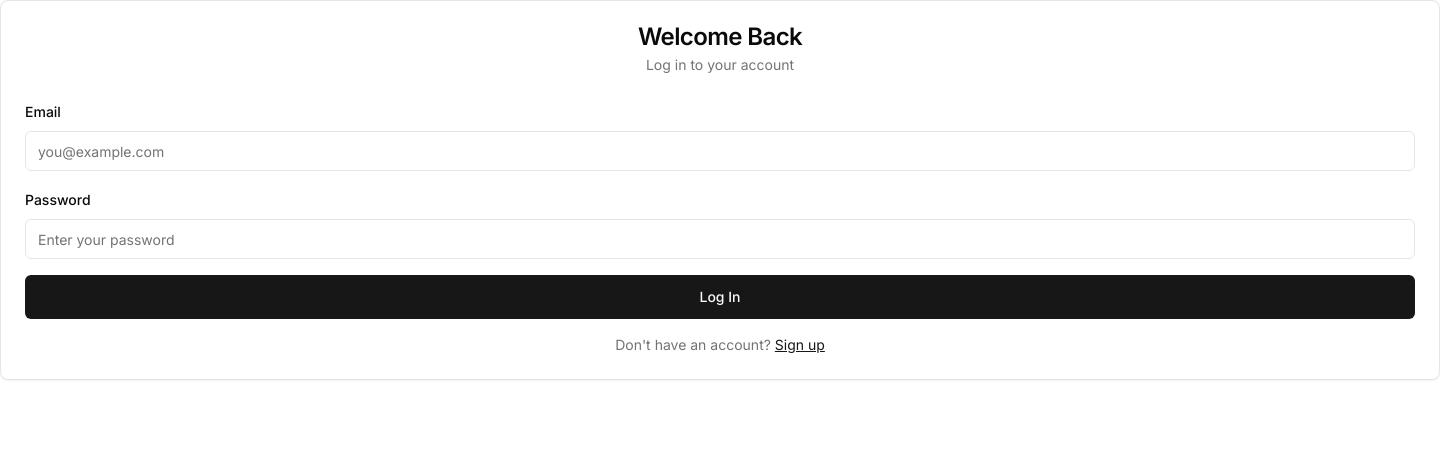
it: LoginPage › shows invalid credentials error
Type "test@example.com" into the field labelled "Email".
click(720, 151); type("test@example.com")  # box [25,131,1415,171]
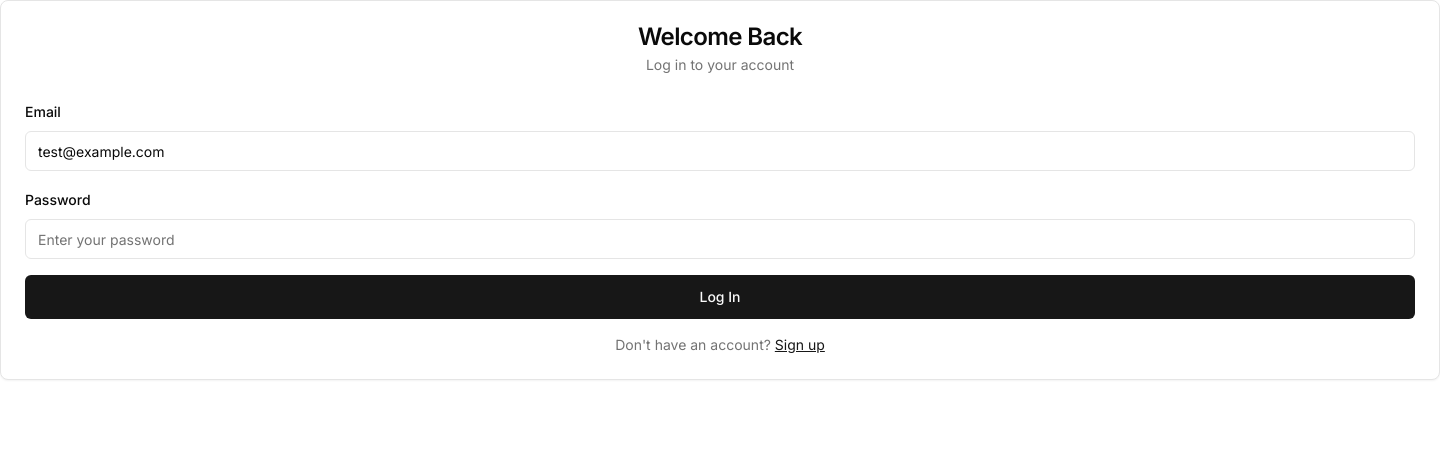
Type "wrongpassword" into the password field labelled "Password".
click(720, 239); type("wrongpassword")  # box [25,219,1415,259]
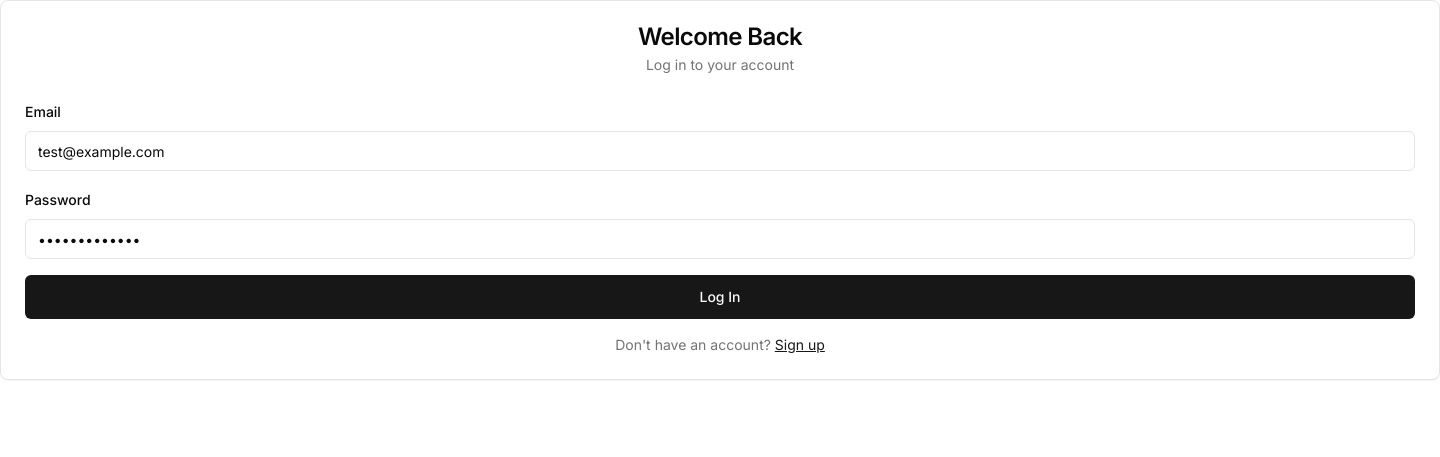
Click the button "Log In".
click(720, 297)  # box [25,275,1415,319]
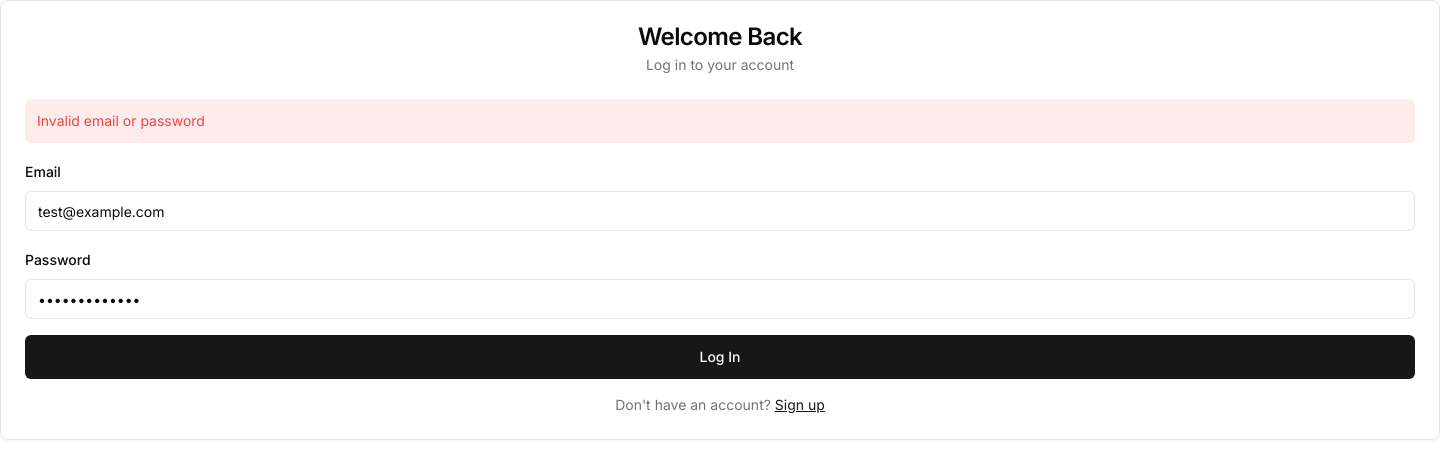
Check: the text "Invalid email or password" is shown, box [25,99,1415,143]
